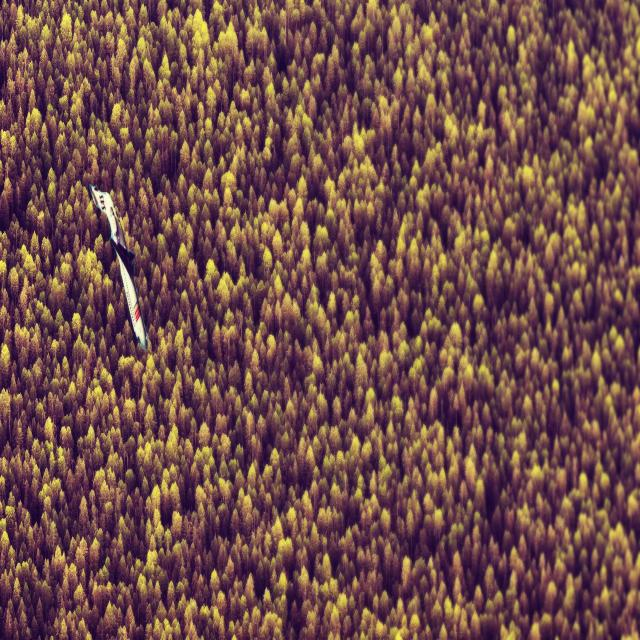airplane: (87, 183, 149, 352)
